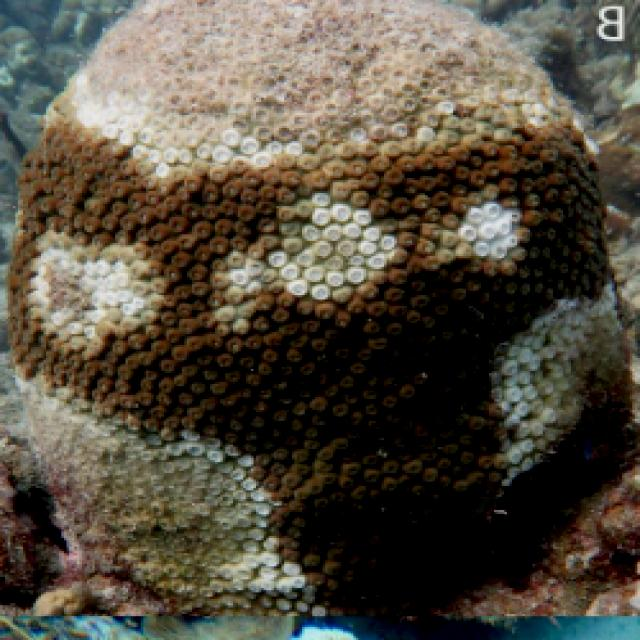Coral: (7, 0, 634, 619)
